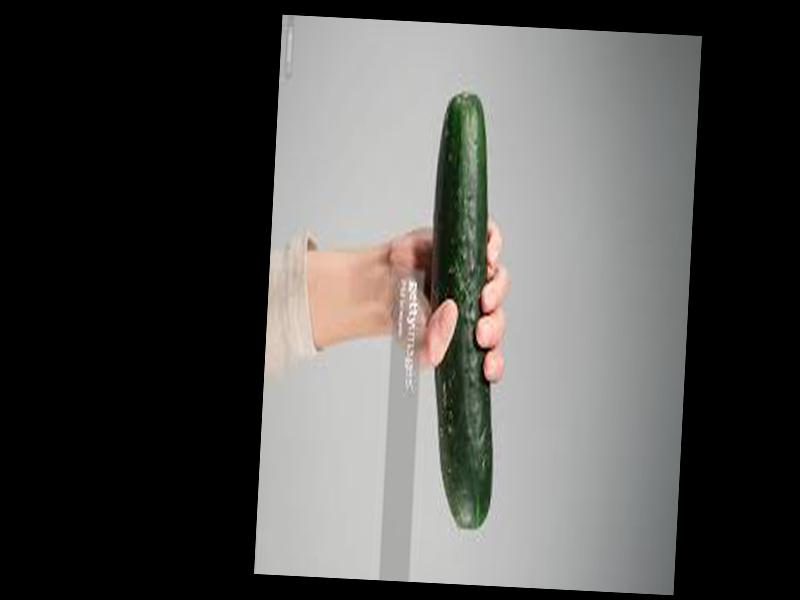Cucumber: (418, 99, 511, 530)
